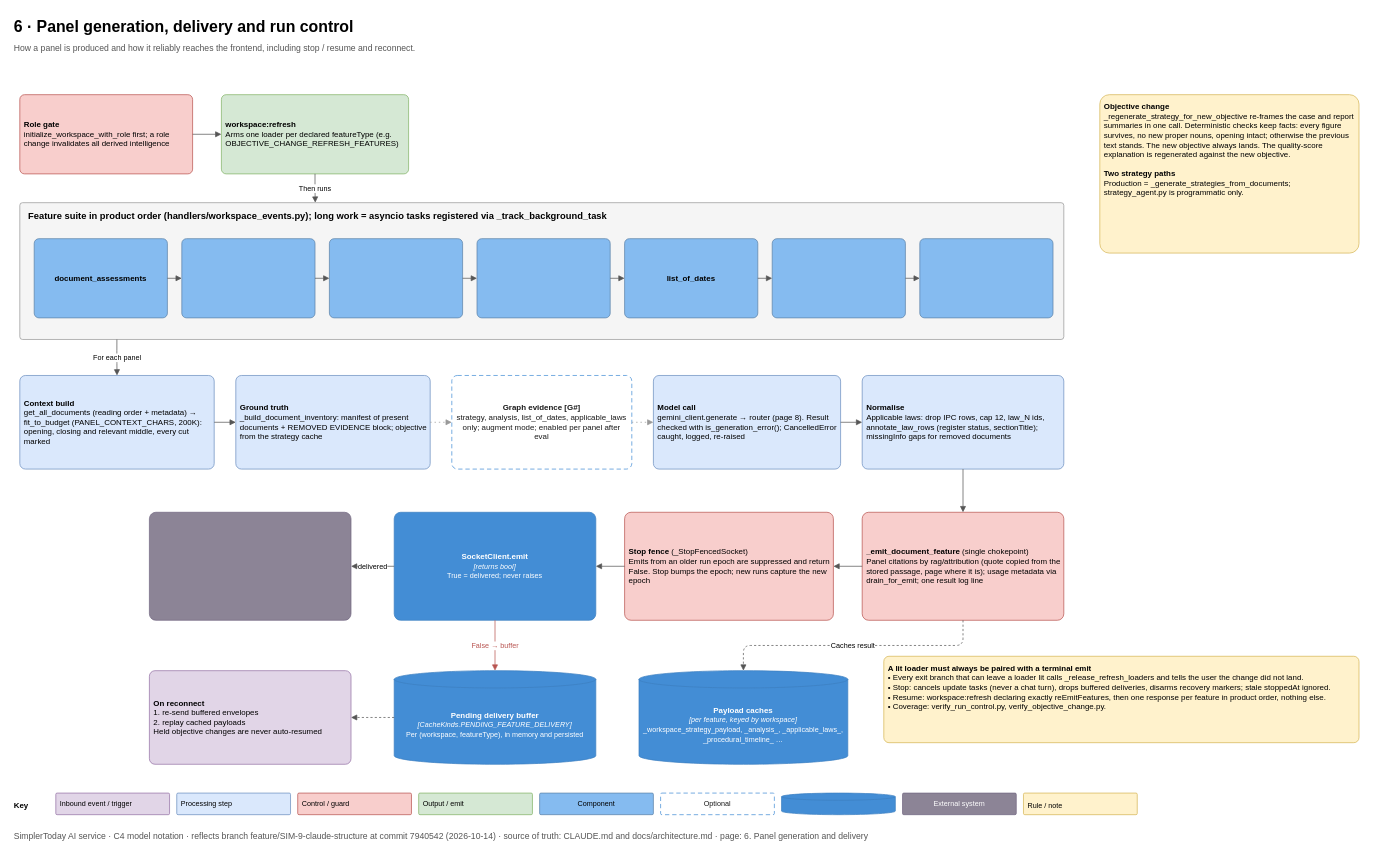
This 1385x855 diagram has some shape labels left out. Each missing label, with the centre of its shape:
"analysis_report" belongs at point (543, 278).
"applicable_laws" belongs at point (838, 278).
"Backend → web app [document_feature_response] Clears the matching loader" belongs at point (250, 566).
"Data store" belongs at point (838, 803).
"procedural_timeline" belongs at point (986, 278).
"strategy_objective" belongs at point (396, 278).
"workspace_metadata" belongs at point (248, 278).
